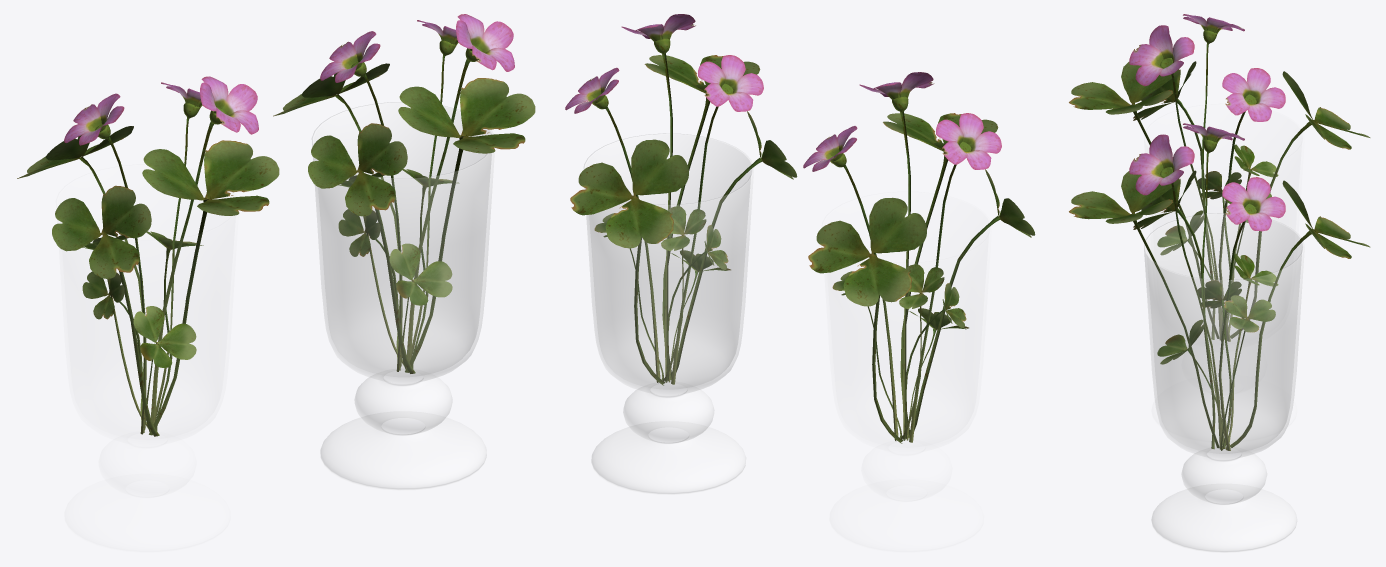
Rendered from GlassVaseFlowers.glb.
3 views of the same model, side by side, from view 1: azimuth 30°, elevation 25°; view 2: azimuth 150°, elevation 25°; view 3: azimuth 270°, elevation 25° (orthographic). The views are drawn at different scales.
Visible parts, largest first — view 1: GlassTransmission, Flowers2, Flowers1; view 2: GlassTransmission, Flowers2, Flowers1; view 3: GlassTransmission, Flowers2, Flowers1.
Boxes of the visible parts, x1,y1,x2,y2 form: GlassTransmission: (312, 102, 494, 490); Flowers2: (273, 14, 535, 373); Flowers1: (17, 76, 279, 436); GlassTransmission: (584, 133, 753, 494); Flowers2: (565, 14, 797, 385); Flowers1: (803, 72, 1035, 443); GlassTransmission: (1144, 213, 1304, 552); Flowers2: (1069, 123, 1370, 450); Flowers1: (1069, 14, 1370, 341).
Size of the model in its own units: 0.2173 by 0.2032 by 0.1425.
3 materials, 1 textured.
